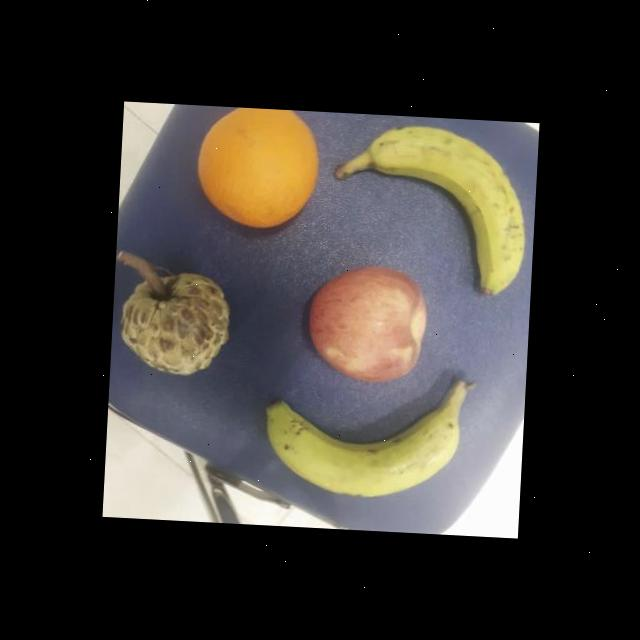Sakya fruit: (112, 264, 232, 377)
banana: (333, 118, 532, 298), (264, 367, 476, 512)
orange: (188, 105, 322, 239), (301, 260, 431, 388)
